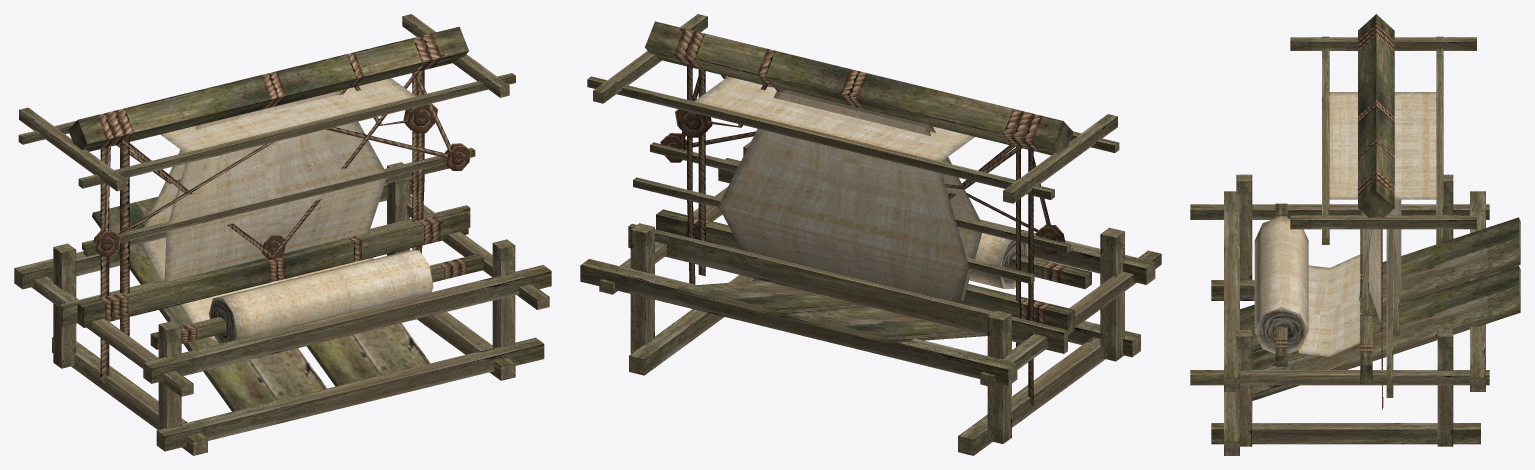
The model's file is shop_sail_weaver.fbx.
3 views of the same model, side by side, from view 1: azimuth 30°, elevation 25°; view 2: azimuth 150°, elevation 25°; view 3: azimuth 270°, elevation 25° (orthographic). The views are drawn at different scales.
Visible parts, largest first — view 1: polySurface34, polySurface1, polySurface37, pCylinder1, pCube21, pCube22, pCube24, pCube14, pCube34, pCube20, pCube16, pCube2 (+25 smaller); view 2: polySurface35, polySurface1, pCube3, pCube27, pCube20, pCube15, polySurface37, pCube24, pCube34, pCube29, pCube16, pCube23 (+19 smaller); view 3: pCube34, pCube20, polySurface1, pCube24, pCylinder1, pCube32, pCube16, pCube25, nurbsToPoly20, pCube21, pCube18, pCube23 (+18 smaller).
Part boxes in pixels (<box>): polySurface34: <box>164,90,386,282</box>; polySurface1: <box>68,26,468,151</box>; polySurface37: <box>77,210,468,327</box>; pCylinder1: <box>209,250,433,343</box>; pCube21: <box>143,265,551,383</box>; pCube22: <box>156,337,544,451</box>; pCube24: <box>92,196,326,411</box>; pCube14: <box>78,73,515,188</box>; pCube34: <box>306,323,430,386</box>; pCube20: <box>161,78,415,152</box>; pCube16: <box>160,78,415,151</box>; pCube2: <box>82,147,475,251</box>; polySurface35: <box>718,91,969,303</box>; polySurface1: <box>645,21,1073,155</box>; pCube3: <box>628,223,1067,353</box>; pCube27: <box>580,259,1017,385</box>; pCube20: <box>694,76,974,161</box>; pCube15: <box>587,76,1054,199</box>; polySurface37: <box>656,209,1074,335</box>; pCube24: <box>788,307,987,343</box>; pCube34: <box>677,280,871,316</box>; pCube29: <box>958,337,1105,455</box>; pCube16: <box>696,77,974,161</box>; pCube23: <box>980,250,1161,387</box>; pCube34: <box>1252,265,1520,400</box>; pCube20: <box>1329,92,1436,199</box>; polySurface1: <box>1358,14,1394,217</box>; pCube24: <box>1240,217,1520,352</box>; pCylinder1: <box>1254,216,1308,353</box>; pCube32: <box>1211,423,1480,444</box>; pCube16: <box>1329,92,1436,199</box>; pCube25: <box>1190,370,1489,385</box>; nurbsToPoly20: <box>1298,254,1360,356</box>; pCube21: <box>1224,191,1239,391</box>; pCube18: <box>1290,215,1476,229</box>; pCube23: <box>1190,204,1489,219</box>.
Size of the model in its own units: 1388 by 857 by 962.
2 materials, 2 textured.
